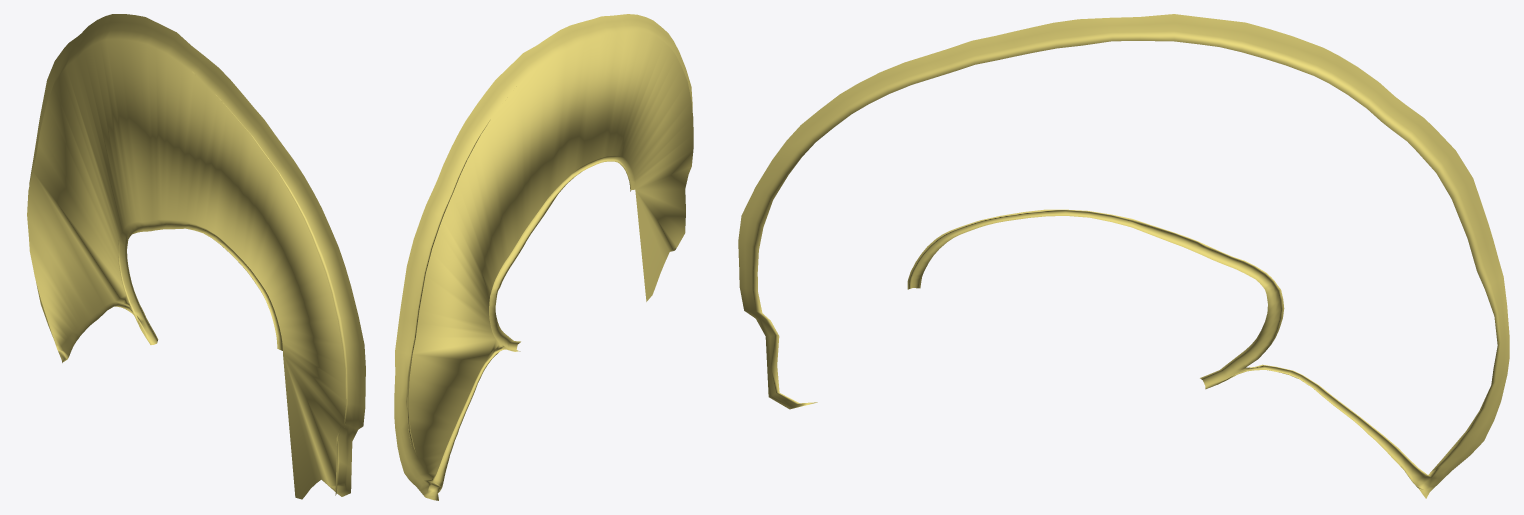
Rendered from falx-cerebri.glb.
The picture shows the model from 3 angles, left to right: view 1: azimuth 30°, elevation 25°; view 2: azimuth 150°, elevation 25°; view 3: azimuth 270°, elevation 25°; orthographic projection. The views are drawn at different scales.
Visible parts, largest first — view 1: Falx cerebri; view 2: Falx cerebri; view 3: Falx cerebri.
Part boxes in pixels (x1,y1,x2,y2): Falx cerebri: (27,14,365,499); Falx cerebri: (394,14,693,500); Falx cerebri: (738,14,1509,498).
Size of the model in its own units: 0.00573 by 0.1201 by 0.1751.
